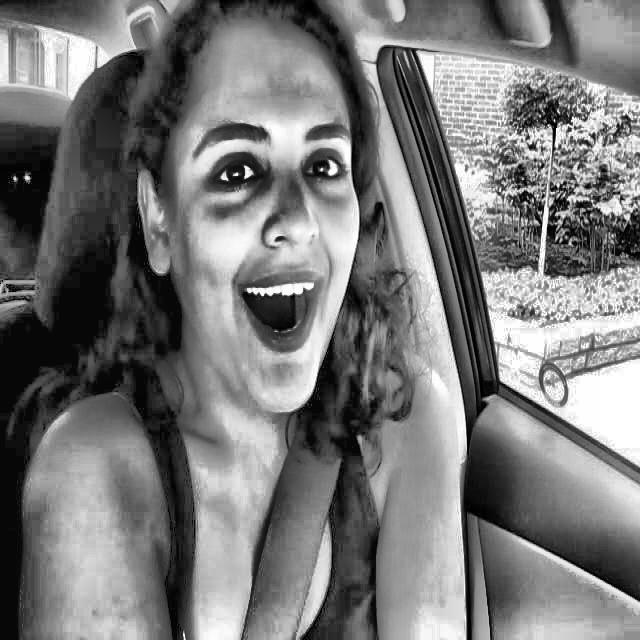open_eyes: (187, 143, 264, 197), (295, 142, 355, 192)
open_mouth: (220, 265, 334, 365)
